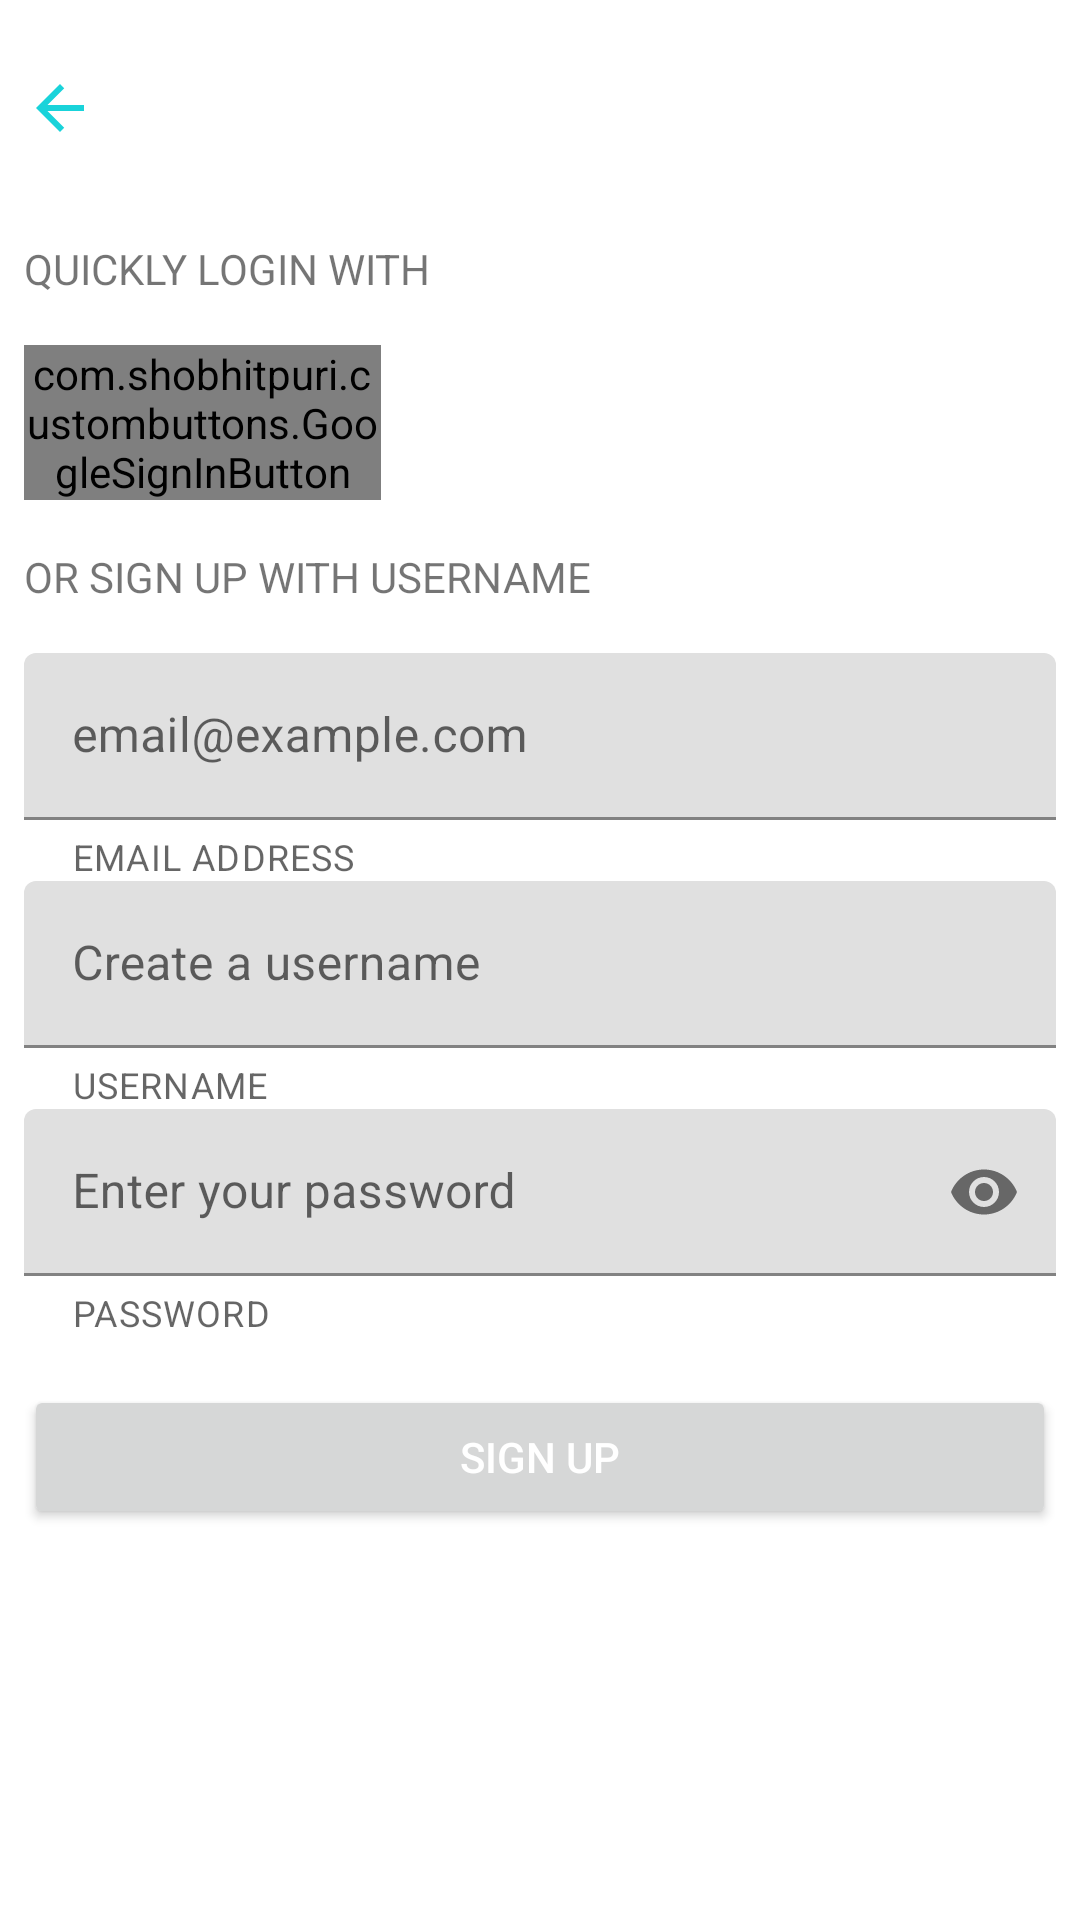

Where to tap for icons on this 1080×1920 app screen, as point (x, y):
arrow back: point (60, 108)
